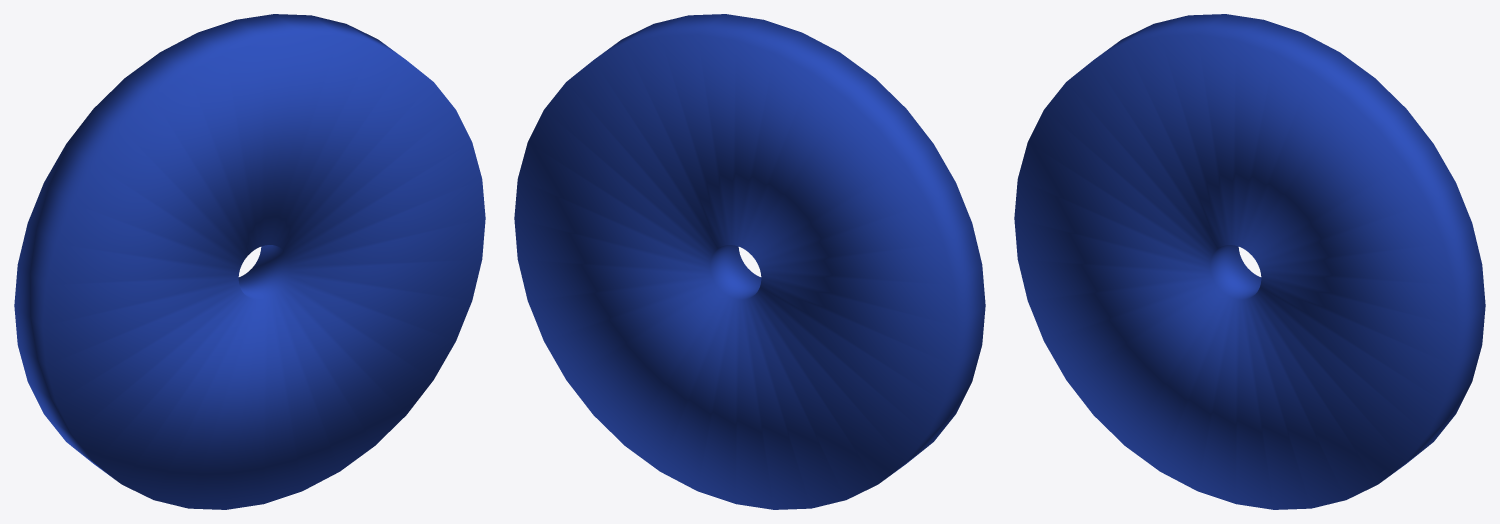
File: weight_plate.glb
3 views of the same model, side by side, from view 1: azimuth 30°, elevation 25°; view 2: azimuth 150°, elevation 25°; view 3: azimuth 330°, elevation 25° (orthographic).
Visible parts, largest first — view 1: weight_plate; view 2: weight_plate; view 3: weight_plate.
Boxes of the visible parts, bbox=[...] form: weight_plate: bbox=[14, 14, 485, 509]; weight_plate: bbox=[514, 14, 985, 509]; weight_plate: bbox=[1014, 14, 1485, 509].
Bounding box in the file's own units: 0.45 × 0.45 × 0.05.
